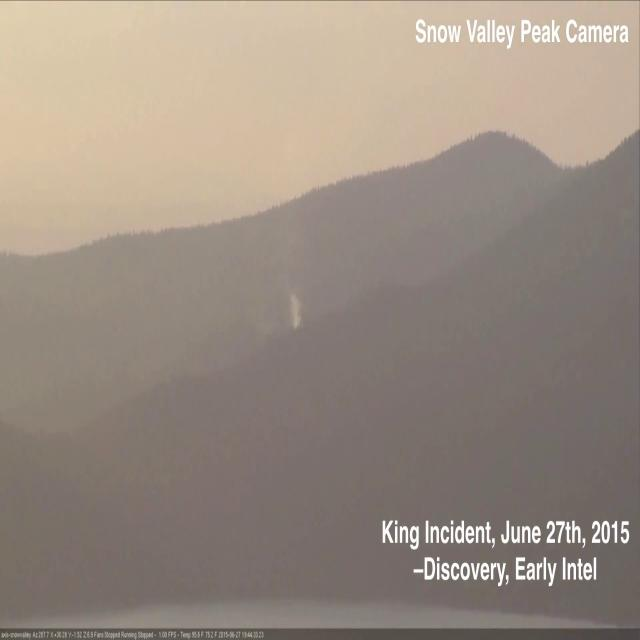smoke: (277, 278, 314, 340)
